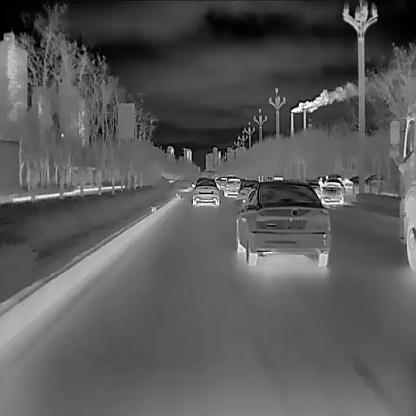car: (234, 181, 330, 266), (189, 177, 219, 208), (236, 180, 260, 204), (322, 179, 342, 206), (222, 178, 240, 197)
truck: (390, 51, 416, 275)
